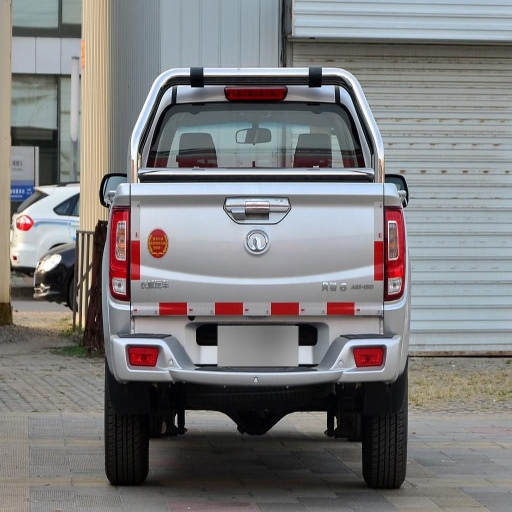back_bumper: (105, 301, 407, 383)
trunk: (109, 169, 395, 331)
